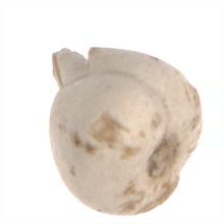L3: (48, 46, 99, 96)
L4: (48, 46, 202, 215)
